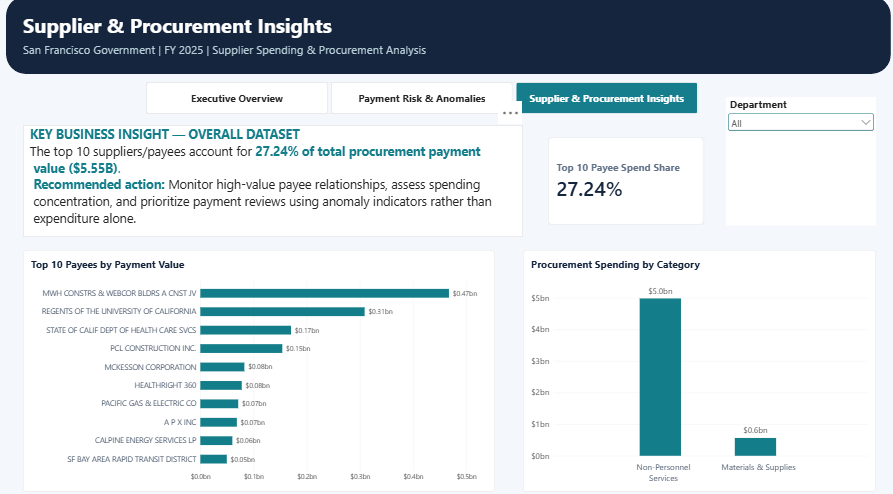

Layout of this report page (visuals, bound fields, positions):
{"tool":"powerbi","page":{"name":" Supplier & Procurement Insights","canvas":[1920,1080],"ordinal":2},"visuals":[{"type":"shape","box":[19.1,0,1881.5,165.8],"z":0},{"type":"textbox","box":[55.3,31.9,1696.5,87.2],"z":1000},{"type":"textbox","box":[55.3,97.8,1864.5,42.5],"z":2000},{"type":"pageNavigator","box":[316.8,182.8,1173.5,68],"z":3000},{"type":"clusteredBarChart","title":"Top 10 Payees by Payment Value","fields":{"Category":["vendor_payment_analysis.Supplier & Other Non-Supplier Payees"],"Y":["vendor_payment_analysis.Total Payment Value"]},"box":[55.3,540,1003.5,514.5],"z":4000},{"type":"cardVisual","fields":{"Data":["vendor_payment_analysis.Top 10 Payee Spend Share"]},"box":[1171.4,299.8,331.7,187.1],"z":5000},{"type":"clusteredColumnChart","title":"Procurement Spending by Category","fields":{"Category":["vendor_payment_analysis.Character"],"Y":["vendor_payment_analysis.Total Payment Value"]},"box":[1118.3,540,750.5,514.5],"z":6000},{"type":"textbox","box":[55.3,274.3,1063,238.1],"z":7000},{"type":"slicer","fields":{"Values":["vendor_payment_analysis.Department"]},"box":[1549.8,214.7,318.9,273],"z":8000}]}

Visuals, with their boxes in screenshot pixels (x1, y1, x2, y2), scaled from the page's 1920x1080 canvas onto the 893x494 screenshot:
shape: (x1=9, y1=0, x2=884, y2=76)
textbox: (x1=26, y1=15, x2=815, y2=54)
textbox: (x1=26, y1=45, x2=892, y2=64)
pageNavigator: (x1=147, y1=84, x2=693, y2=115)
"Top 10 Payees by Payment Value" clusteredBarChart: (x1=26, y1=247, x2=492, y2=482)
cardVisual - vendor_payment_analysis.Top 10 Payee Spend Share: (x1=545, y1=137, x2=699, y2=223)
"Procurement Spending by Category" clusteredColumnChart: (x1=520, y1=247, x2=869, y2=482)
textbox: (x1=26, y1=125, x2=520, y2=234)
slicer - vendor_payment_analysis.Department: (x1=721, y1=98, x2=869, y2=223)
